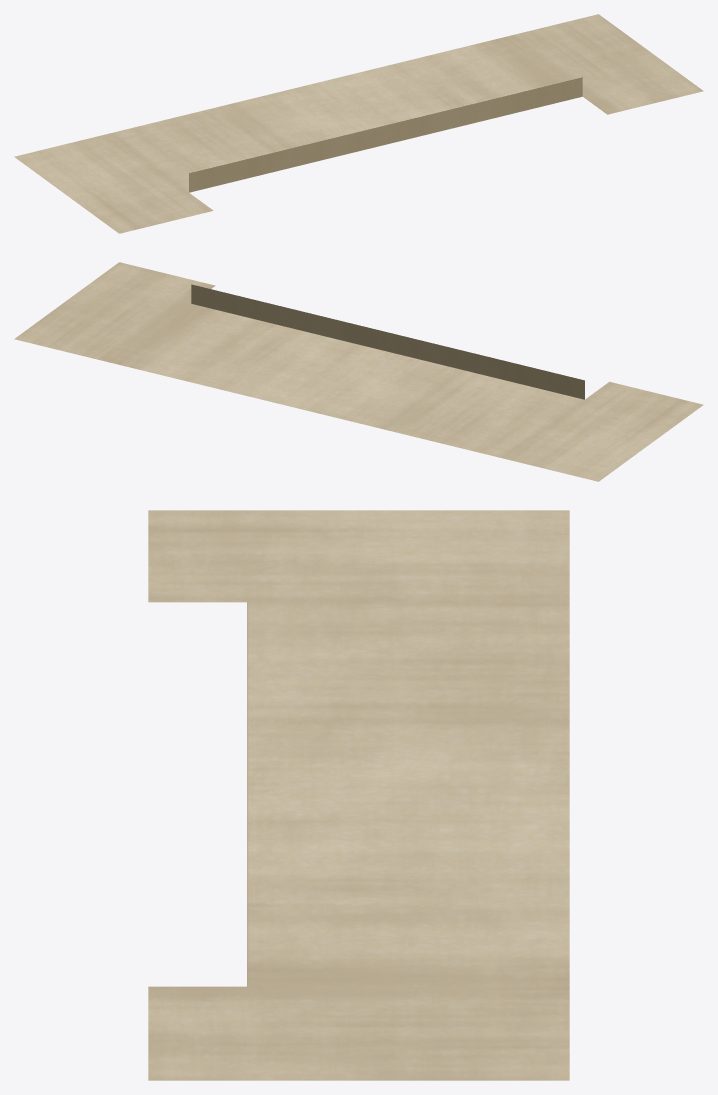
File: TraditionalKoreanHouse_CellingShadowOnly.fbx
3 views of the same model, one above another, from view 1: azimuth 30°, elevation 25°; view 2: azimuth 150°, elevation 25°; view 3: azimuth 270°, elevation 25° (orthographic). The views are drawn at different scales.
Parts seen in each view (by area): view 1: TraditionalKoreanHouse_CellingShadowOnly; view 2: TraditionalKoreanHouse_CellingShadowOnly; view 3: TraditionalKoreanHouse_CellingShadowOnly.
Boxes of the visible parts, box(x1,y1,x2,y2) form: TraditionalKoreanHouse_CellingShadowOnly: box(14, 14, 703, 233); TraditionalKoreanHouse_CellingShadowOnly: box(14, 262, 703, 481); TraditionalKoreanHouse_CellingShadowOnly: box(148, 510, 569, 1080).
Size of the model in its own units: 743 by 23.51 by 232.
